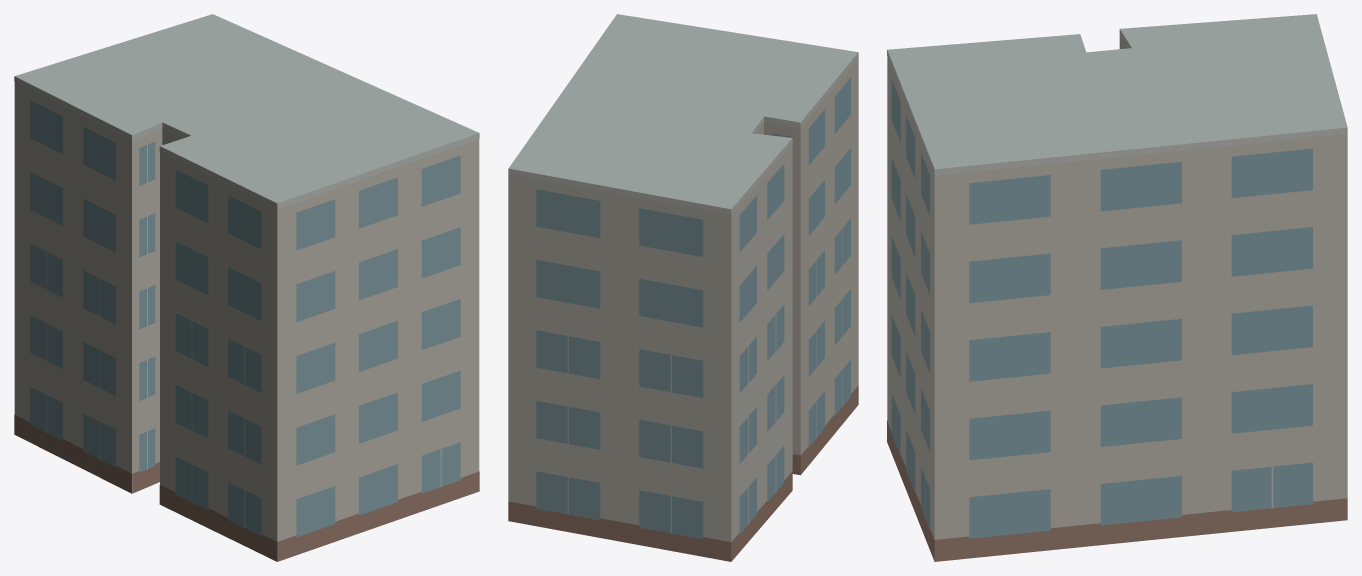
The model's file is survey-upis-33014926.glb.
3 renders of one model, left to right at view 1: azimuth 30°, elevation 25°; view 2: azimuth 150°, elevation 25°; view 3: azimuth 270°, elevation 25°, orthographic. The views are drawn at different scales.
Visible parts, largest first — view 1: survey-upis-33014926.tmp; view 2: survey-upis-33014926.tmp; view 3: survey-upis-33014926.tmp.
Boxes of the visible parts, bbox=[...] form: survey-upis-33014926.tmp: bbox=[14, 14, 479, 561]; survey-upis-33014926.tmp: bbox=[508, 14, 858, 561]; survey-upis-33014926.tmp: bbox=[887, 14, 1347, 561].
Bounding box in the file's own units: 12.95 × 15.25 × 16.22.
